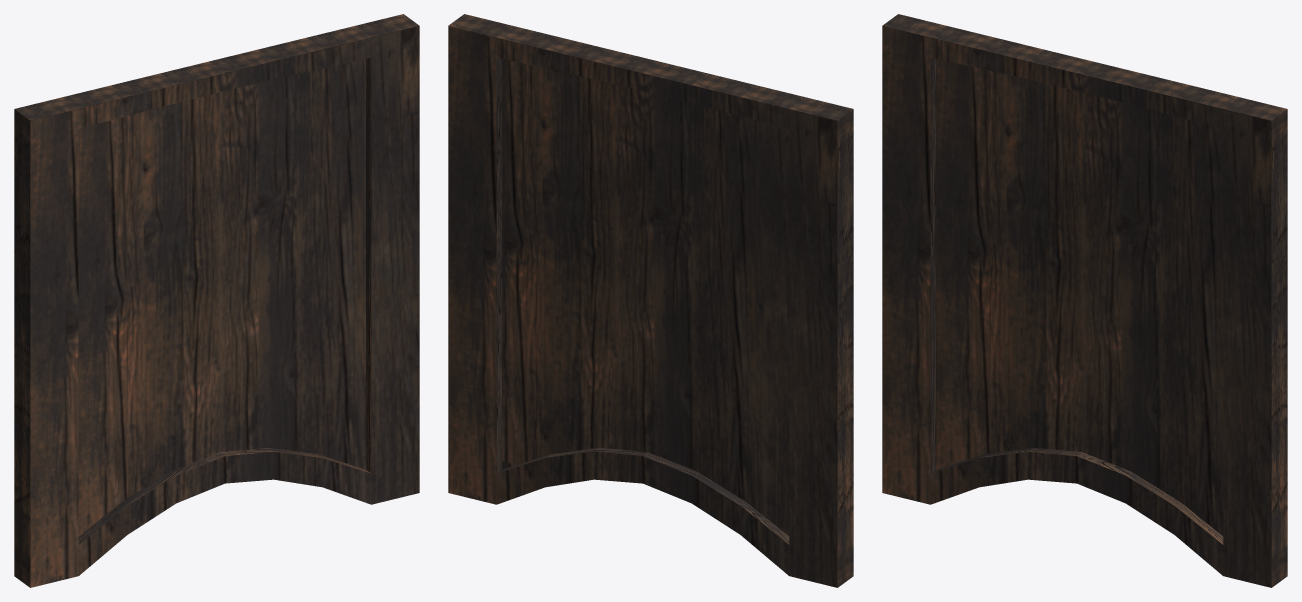
Rendered from SB_Post_Panel.fbx.
3 renders of one model, left to right at view 1: azimuth 30°, elevation 25°; view 2: azimuth 150°, elevation 25°; view 3: azimuth 330°, elevation 25°, orthographic.
Parts seen in each view (by area): view 1: Cube; view 2: Cube; view 3: Cube.
Boxes of the visible parts, <box> form: Cube: <box>14,14,419,587</box>; Cube: <box>448,14,853,587</box>; Cube: <box>882,14,1287,587</box>.
Size of the model in its own units: 593 by 680 by 42.58.
